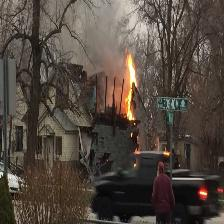fire: (120, 52, 147, 122)
